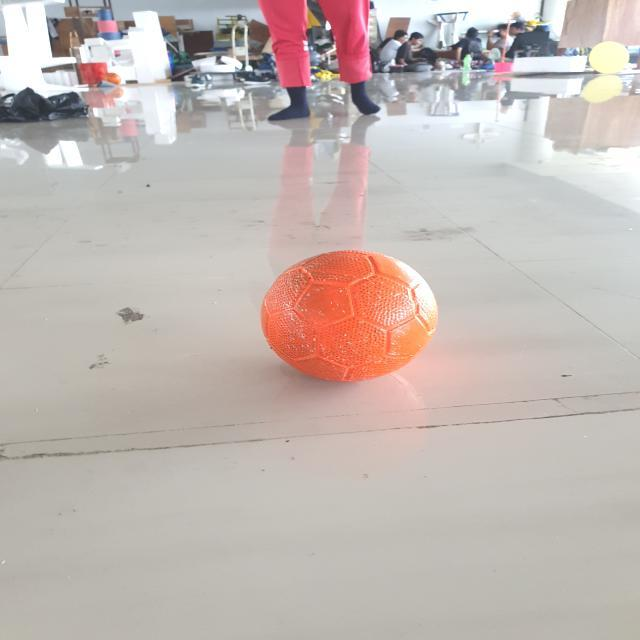bola: (255, 204, 452, 398)
